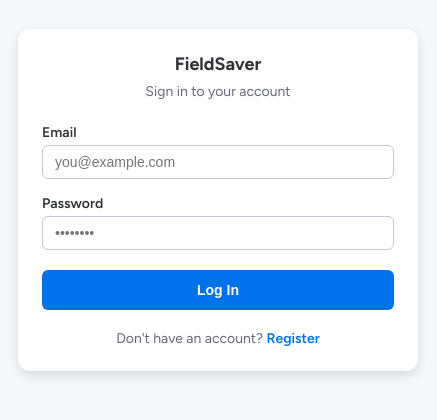
LoginPage › should show 401 error message when credentials are invalid
The width and height of the screenshot is (437, 420).
In the field with placeholder "you@example.com": (218, 162) [42,145,394,179], type "user@example.com"
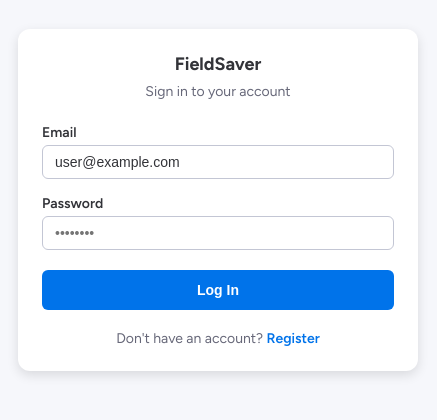
In the password field with placeholder "••••••••": (218, 233) [42,216,394,250], type "wrongpassword"
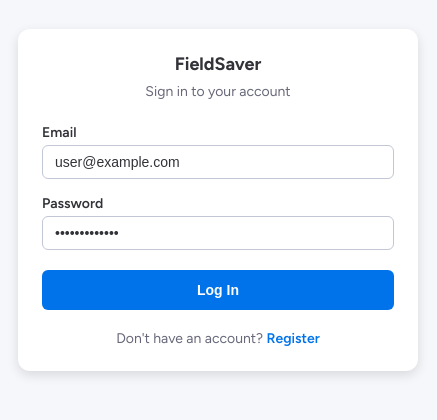
Click the button "Log In": (218, 290) [42,270,394,310]
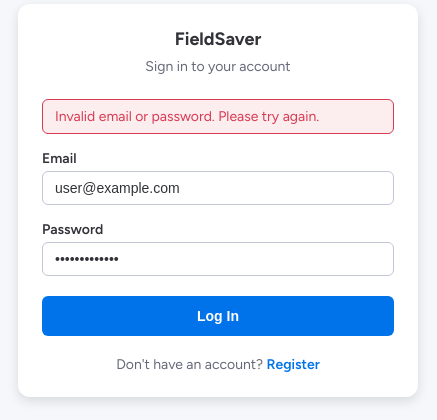
Check: the text "Invalid email or password. Please try again." is shown, box [42,98,394,134]
